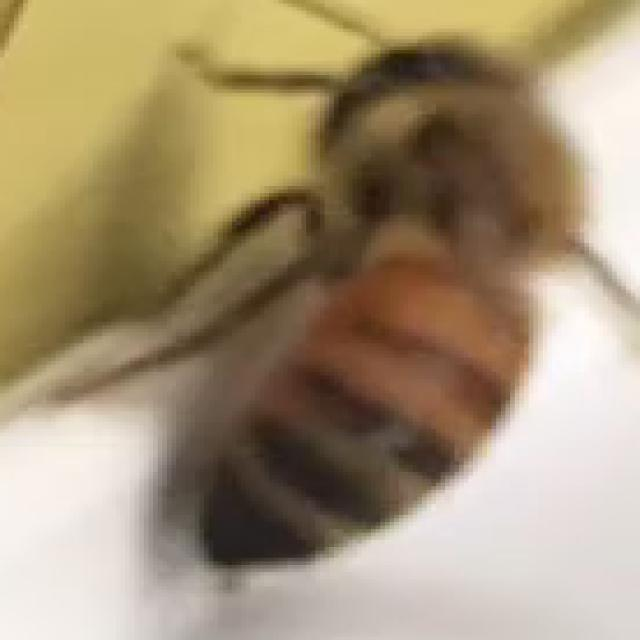honeybee: (191, 11, 594, 568)
